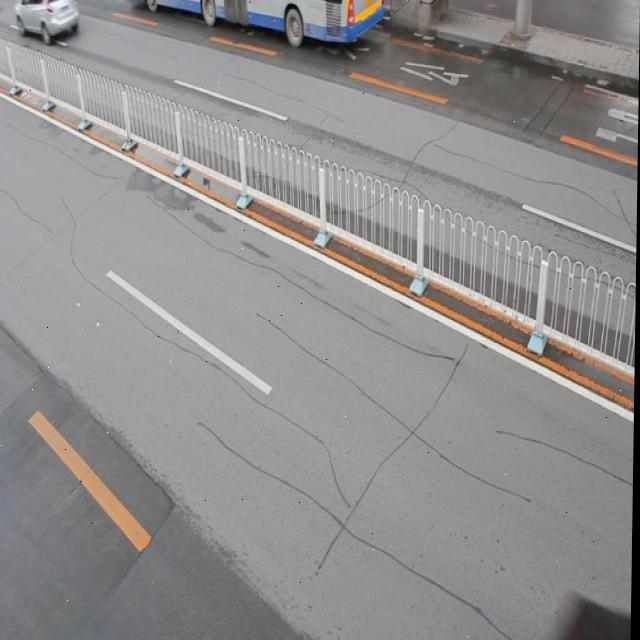car: (16, 0, 80, 42)
van: (124, 0, 384, 44)
